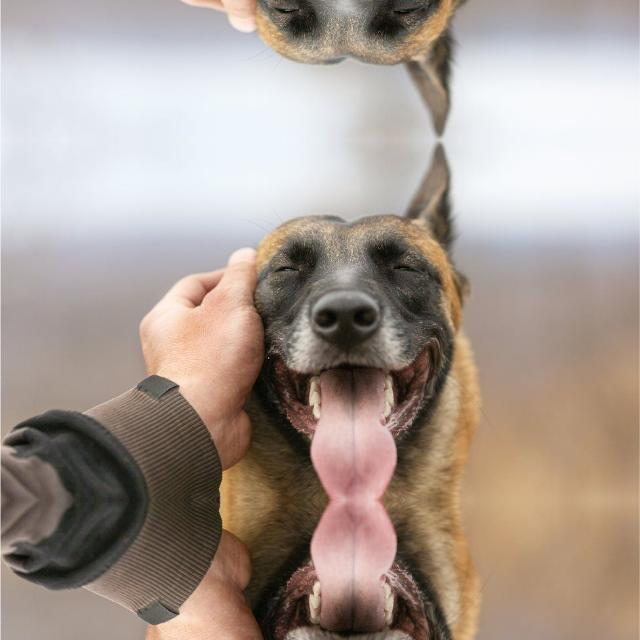dog: (217, 193, 519, 499), (217, 501, 519, 640), (217, 0, 519, 87)
